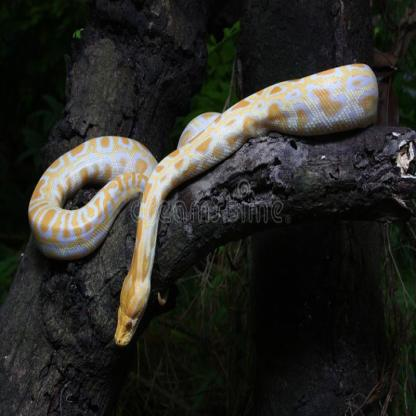Snake: (27, 61, 379, 351)
